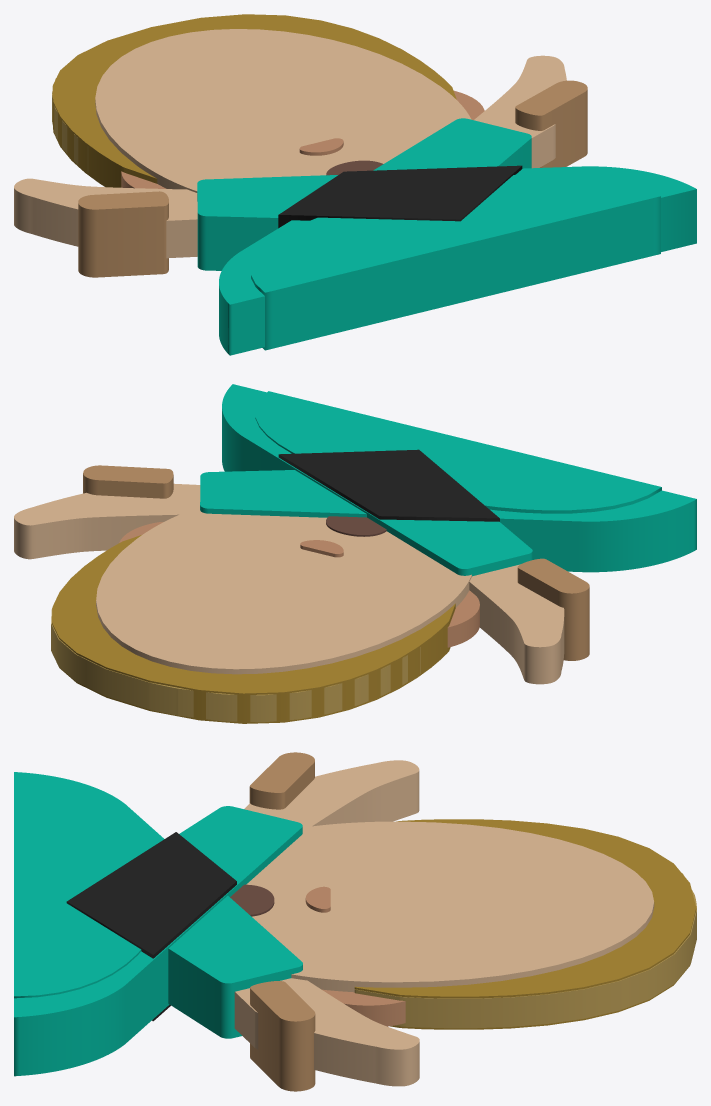
File: emoji_u1f645_1f3fc_200d_2642.glb
The picture shows the model from 3 angles, top to bottom: view 1: azimuth 30°, elevation 25°; view 2: azimuth 150°, elevation 25°; view 3: azimuth 270°, elevation 25°; orthographic projection. The views are drawn at different scales.
Parts seen in each view (by area): view 1: emoji_u1f645_1f3fc_200d_2642; view 2: emoji_u1f645_1f3fc_200d_2642; view 3: emoji_u1f645_1f3fc_200d_2642.
Part boxes in pixels (x1,y1,x2,y2): emoji_u1f645_1f3fc_200d_2642: (14, 14, 696, 355); emoji_u1f645_1f3fc_200d_2642: (14, 384, 696, 723); emoji_u1f645_1f3fc_200d_2642: (14, 752, 696, 1091).
Size of the model in its own units: 0.0335 by 0.004 by 0.0336.
